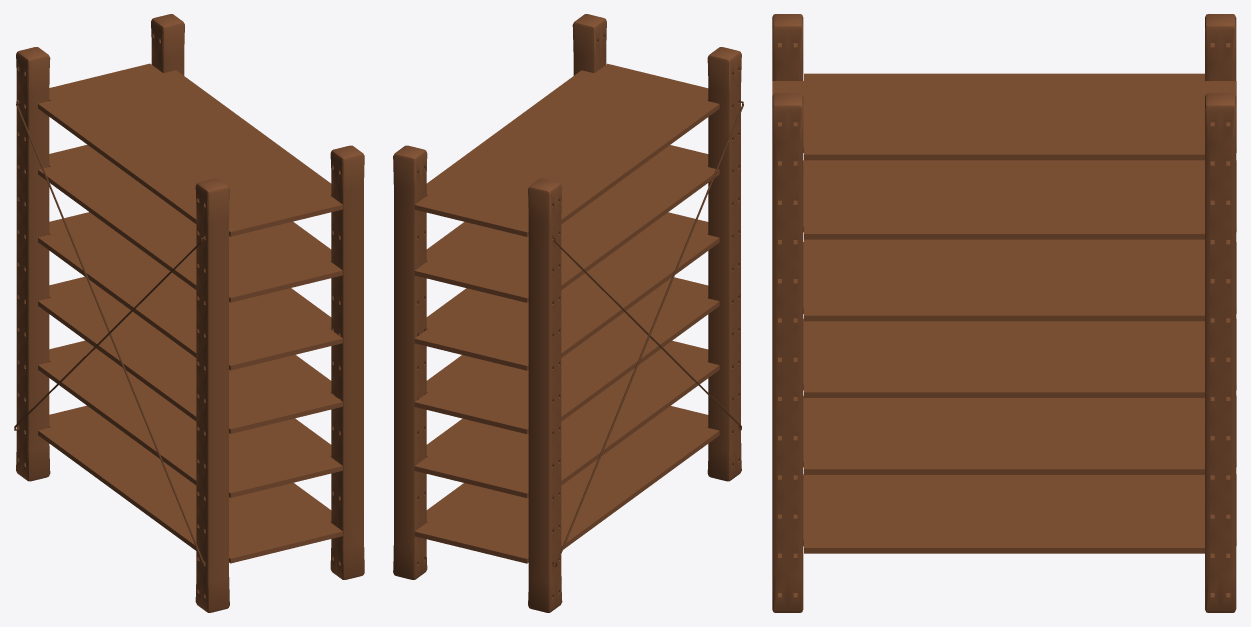
File: Shelf_04b.glb
The picture shows the model from 3 angles, left to right: view 1: azimuth 30°, elevation 25°; view 2: azimuth 150°, elevation 25°; view 3: azimuth 270°, elevation 25°; orthographic projection. The views are drawn at different scales.
Visible parts, largest first — view 1: Mesh_Shelf_04b; view 2: Mesh_Shelf_04b; view 3: Mesh_Shelf_04b.
Boxes of the visible parts, x1,y1,x2,y2 form: Mesh_Shelf_04b: (14, 14, 364, 612); Mesh_Shelf_04b: (393, 14, 743, 612); Mesh_Shelf_04b: (772, 14, 1236, 612).
Bounding box in the file's own units: 0.7192 × 1.8 × 1.49.
1 material, 1 textured.
